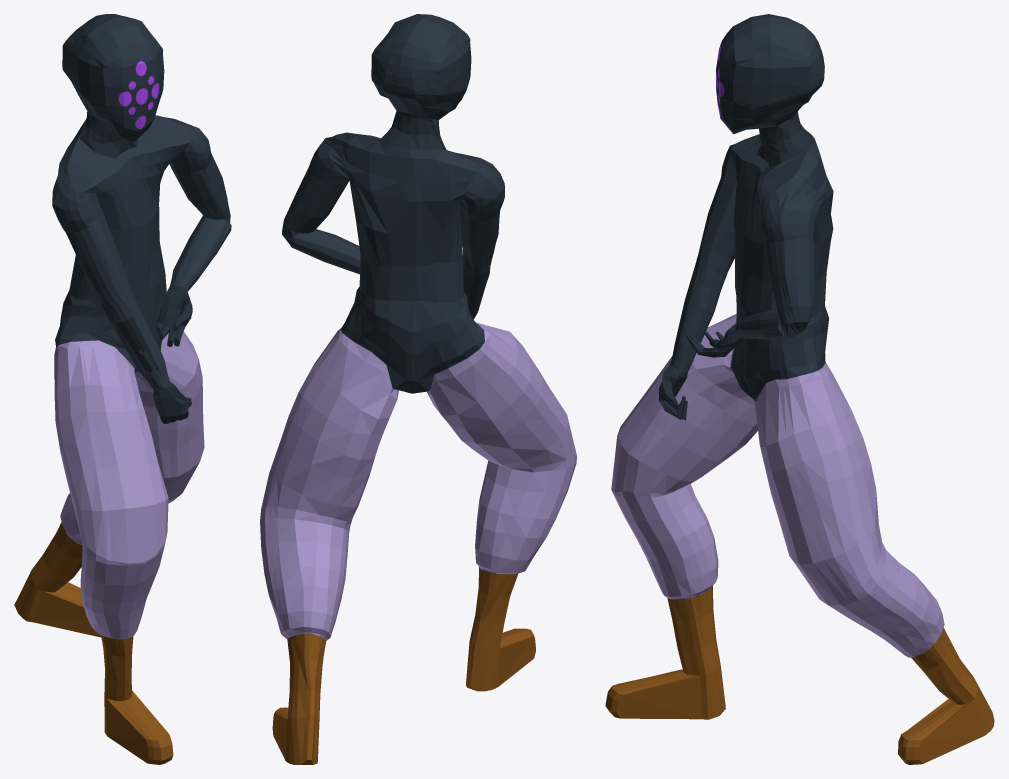
The model's file is Oracle_WB_000013.obj.
3 views of the same model, side by side, from view 1: azimuth 30°, elevation 25°; view 2: azimuth 150°, elevation 25°; view 3: azimuth 270°, elevation 25° (orthographic). The views are drawn at different scales.
Parts seen in each view (by area): view 1: Cube; view 2: Cube; view 3: Cube.
Boxes of the visible parts, x1,y1,x2,y2 form: Cube: (14,14,231,764); Cube: (260,14,576,764); Cube: (605,14,994,764).
Size of the model in its own units: 1.2 by 3.65 by 1.82.
